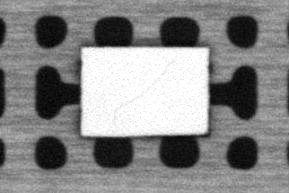DIE_CRACK: (111, 58, 179, 111)
